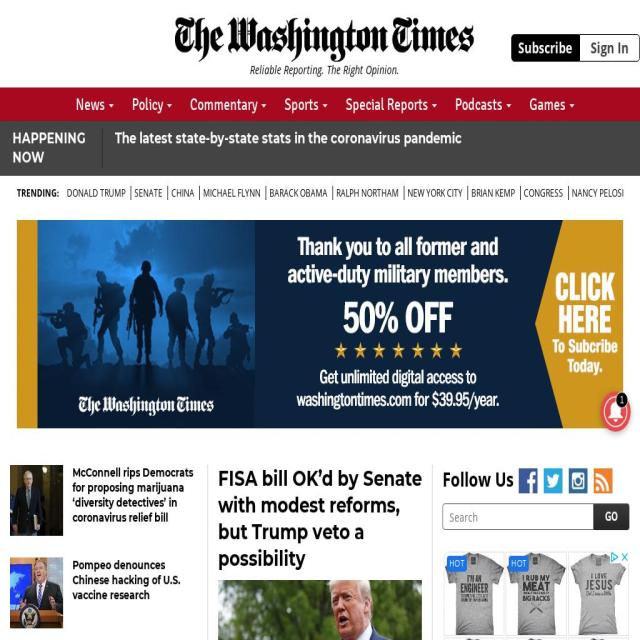field: (442, 503, 594, 531), (594, 503, 629, 531)
heading: (218, 465, 422, 572), (73, 465, 193, 525), (115, 129, 462, 148), (72, 558, 180, 602), (12, 129, 90, 168)
iframe: (17, 220, 623, 428), (442, 550, 630, 640)
image: (175, 18, 474, 62), (218, 580, 422, 640), (10, 465, 63, 536), (10, 558, 63, 628), (600, 392, 630, 432), (518, 468, 538, 494), (568, 468, 588, 494), (544, 468, 562, 494), (594, 468, 612, 494)
link: (345, 100, 437, 133), (190, 100, 266, 133), (454, 100, 512, 133), (529, 100, 574, 133), (284, 100, 328, 133), (131, 100, 172, 133), (75, 100, 114, 133), (518, 38, 573, 58), (336, 186, 398, 200), (66, 186, 126, 200), (268, 186, 328, 200), (202, 186, 260, 200), (407, 186, 462, 200), (571, 186, 624, 200), (471, 186, 515, 200), (523, 186, 563, 200), (134, 186, 162, 200), (170, 186, 194, 200)
text: (250, 61, 400, 77), (442, 465, 518, 493), (590, 38, 628, 58), (16, 186, 59, 200), (616, 392, 628, 408)
